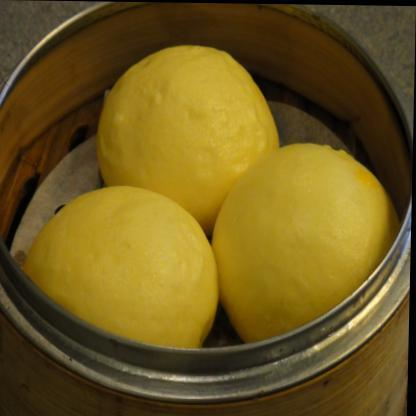lemon: (212, 142, 401, 342), (95, 45, 280, 234), (22, 184, 220, 349)
